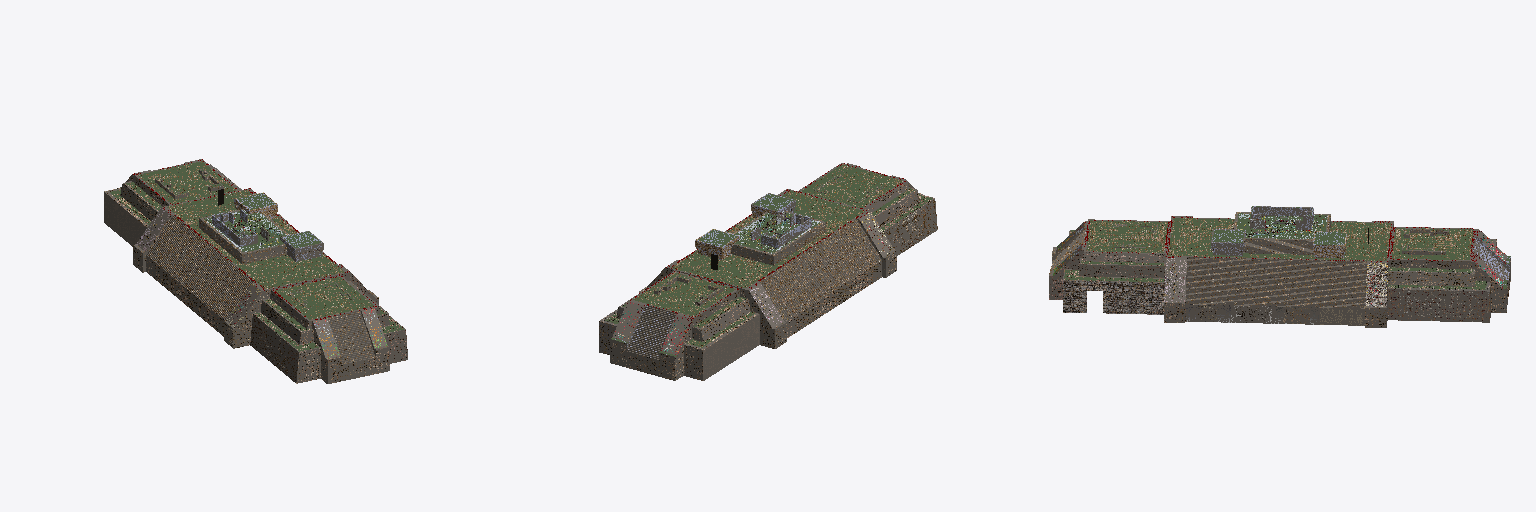
3 renders of one model, left to right at view 1: azimuth 30°, elevation 25°; view 2: azimuth 150°, elevation 25°; view 3: azimuth 270°, elevation 25°, orthographic.
Parts seen in each view (by area): view 1: Mesh2 Group1 Model; view 2: Mesh2 Group1 Model; view 3: Mesh2 Group1 Model.
Part boxes in pixels (left/top/right/bottom): Mesh2 Group1 Model: left=104, top=159, right=407, bottom=383; Mesh2 Group1 Model: left=599, top=163, right=937, bottom=380; Mesh2 Group1 Model: left=1049, top=206, right=1510, bottom=327.
Size of the model in its own units: 41.15 by 18.23 by 108.
29 materials, 17 textured.